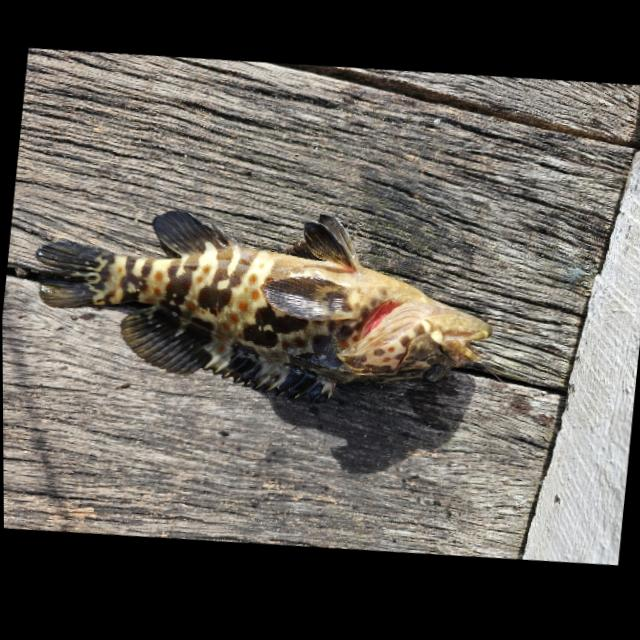Groupers: (19, 175, 503, 433)
